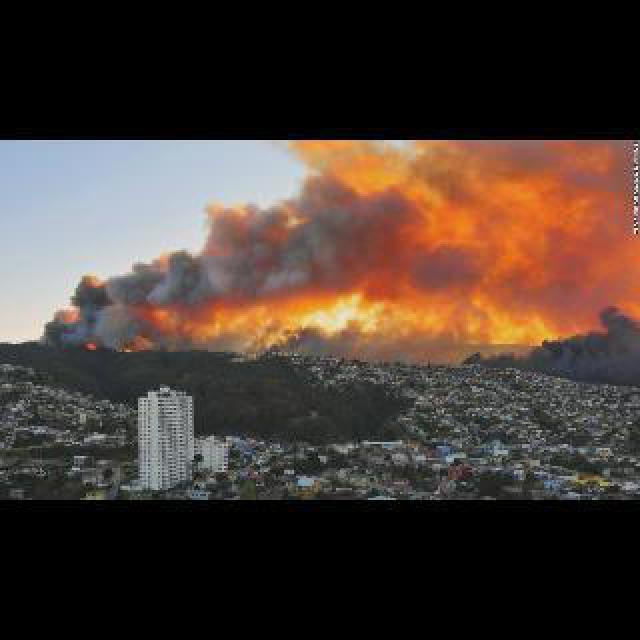Fire: (434, 293, 566, 351), (296, 295, 391, 337), (84, 340, 92, 348), (118, 346, 130, 350)
Smoke: (61, 180, 464, 302)
